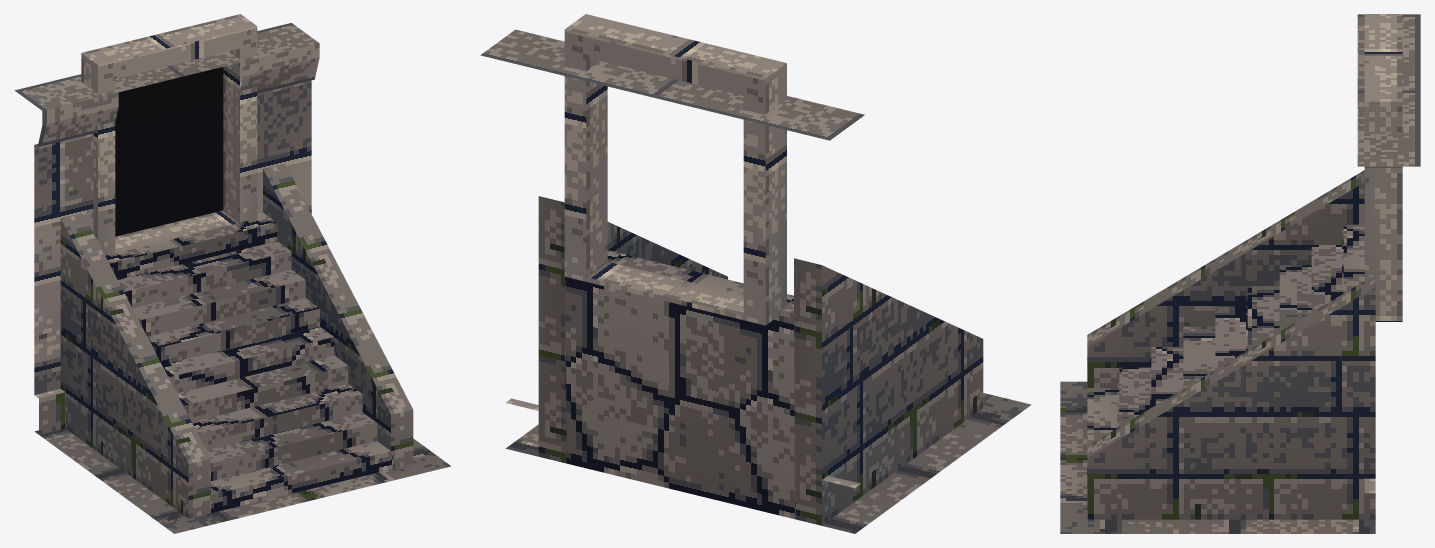
The model's file is dgn.stairs.glb.
3 renders of one model, left to right at view 1: azimuth 30°, elevation 25°; view 2: azimuth 150°, elevation 25°; view 3: azimuth 270°, elevation 25°, orthographic. The views are drawn at different scales.
Parts seen in each view (by area): view 1: kit_steps, kit_cheeks, kit_shell_wall, kit_portal_frame, kit_card_portal, kit_shell_floor; view 2: kit_steps, kit_cheeks, kit_portal_frame, kit_shell_wall, kit_shell_floor; view 3: kit_cheeks, kit_steps, kit_portal_frame, kit_shell_floor, kit_shell_wall.
Boxes of the visible parts, x1,y1,x2,y2 form: kit_steps: [105, 212, 392, 513]; kit_cheeks: [60, 163, 413, 518]; kit_shell_wall: [14, 23, 319, 434]; kit_portal_frame: [81, 14, 257, 255]; kit_card_portal: [115, 67, 223, 236]; kit_shell_floor: [34, 428, 450, 533]; kit_steps: [565, 250, 795, 519]; kit_cheeks: [538, 196, 983, 525]; kit_portal_frame: [564, 14, 786, 325]; kit_shell_wall: [480, 29, 864, 487]; kit_shell_floor: [506, 393, 1031, 533]; kit_cheeks: [1087, 170, 1375, 519]; kit_steps: [1087, 224, 1364, 445]; kit_portal_frame: [1364, 14, 1402, 321]; kit_shell_floor: [1060, 381, 1375, 533]; kit_shell_wall: [1357, 14, 1420, 493].
Bounding box in the file's own units: 4 × 4.9 × 4.
7 materials, 7 textured.
